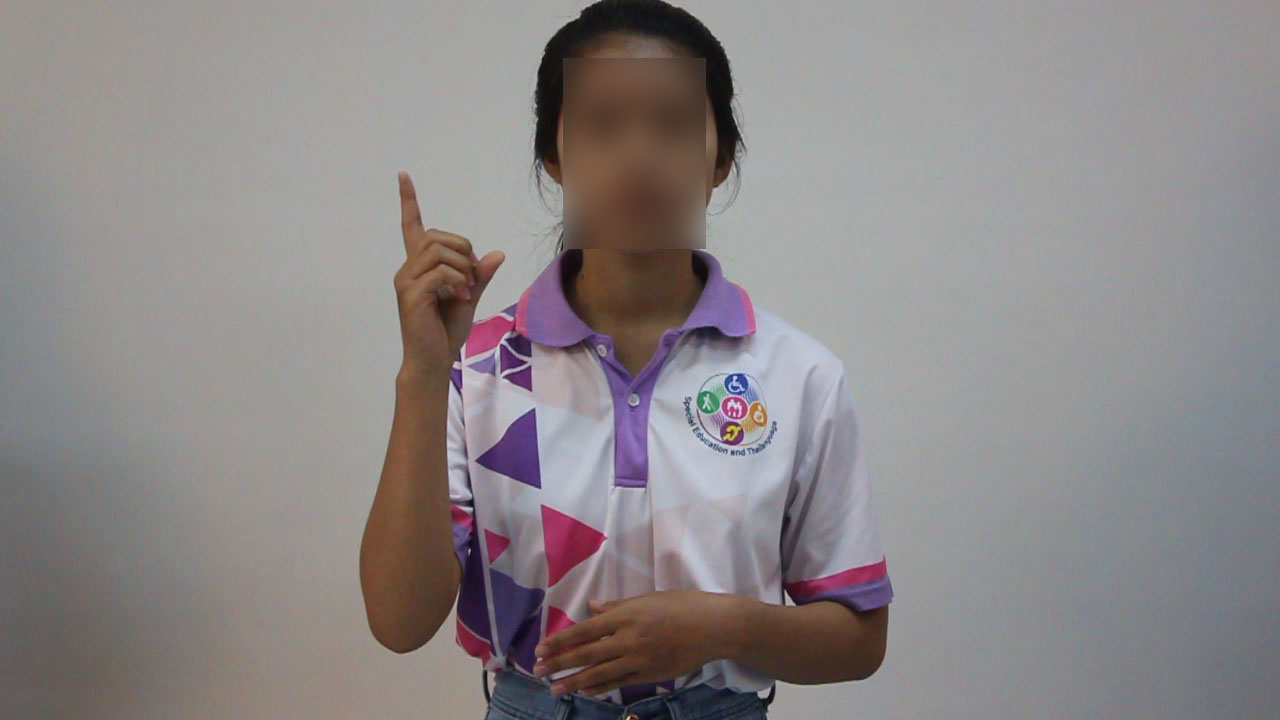dor: (374, 164, 511, 378)
